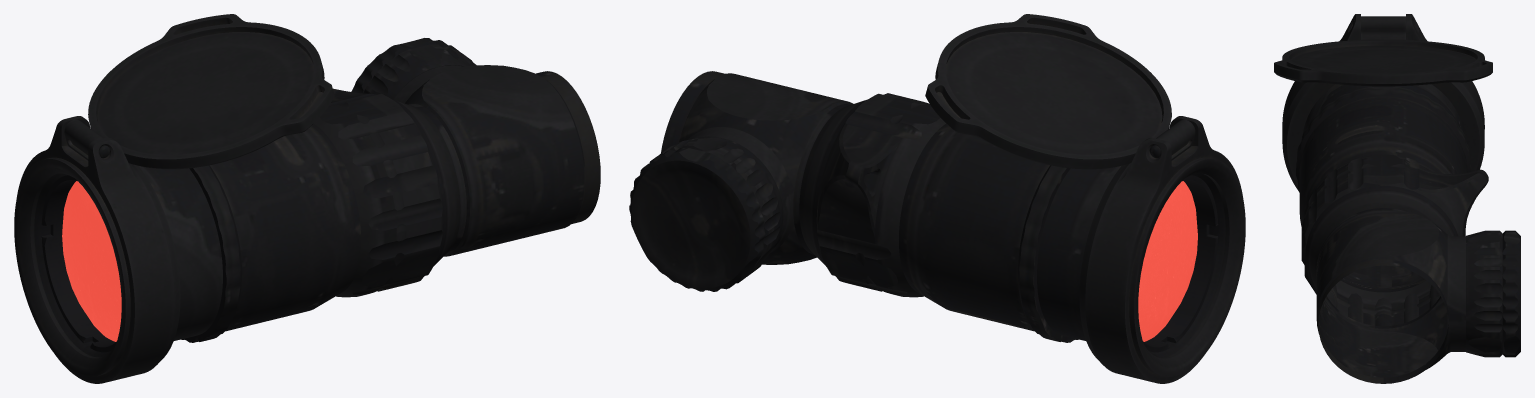
Rendered from night-vision-scope.glb.
The picture shows the model from 3 angles, left to right: view 1: azimuth 30°, elevation 25°; view 2: azimuth 150°, elevation 25°; view 3: azimuth 270°, elevation 25°; orthographic projection. The views are drawn at different scales.
Parts seen in each view (by area): view 1: Gear_NightVisionScope; view 2: Gear_NightVisionScope; view 3: Gear_NightVisionScope.
Part boxes in pixels (x1=…): Gear_NightVisionScope: x1=14, y1=14, x2=600, y2=383; Gear_NightVisionScope: x1=629, y1=14, x2=1245, y2=383; Gear_NightVisionScope: x1=1274, y1=14, x2=1520, y2=383.
Size of the model in its own units: 0.26 by 0.1418 by 0.1339.
Materials: 3 (3 with a texture image).
